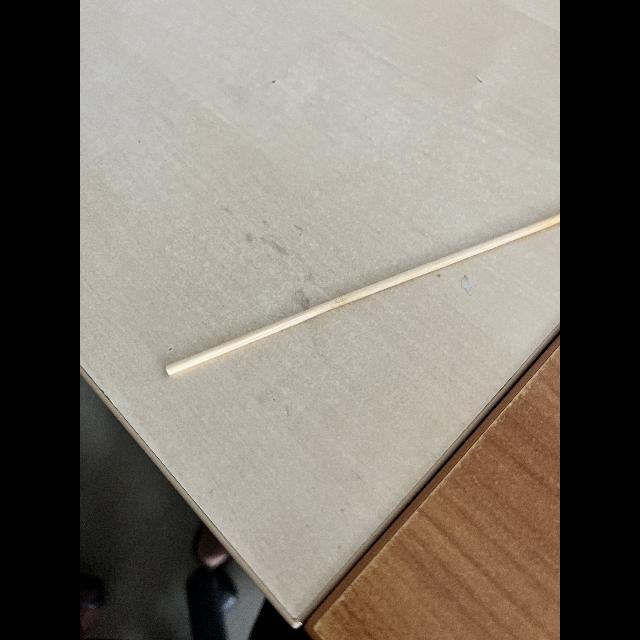stick: (158, 196, 560, 378)
